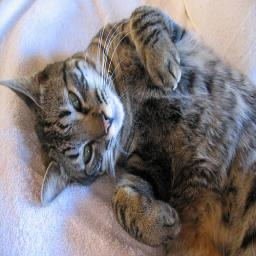catnose: (100, 109, 112, 136)
